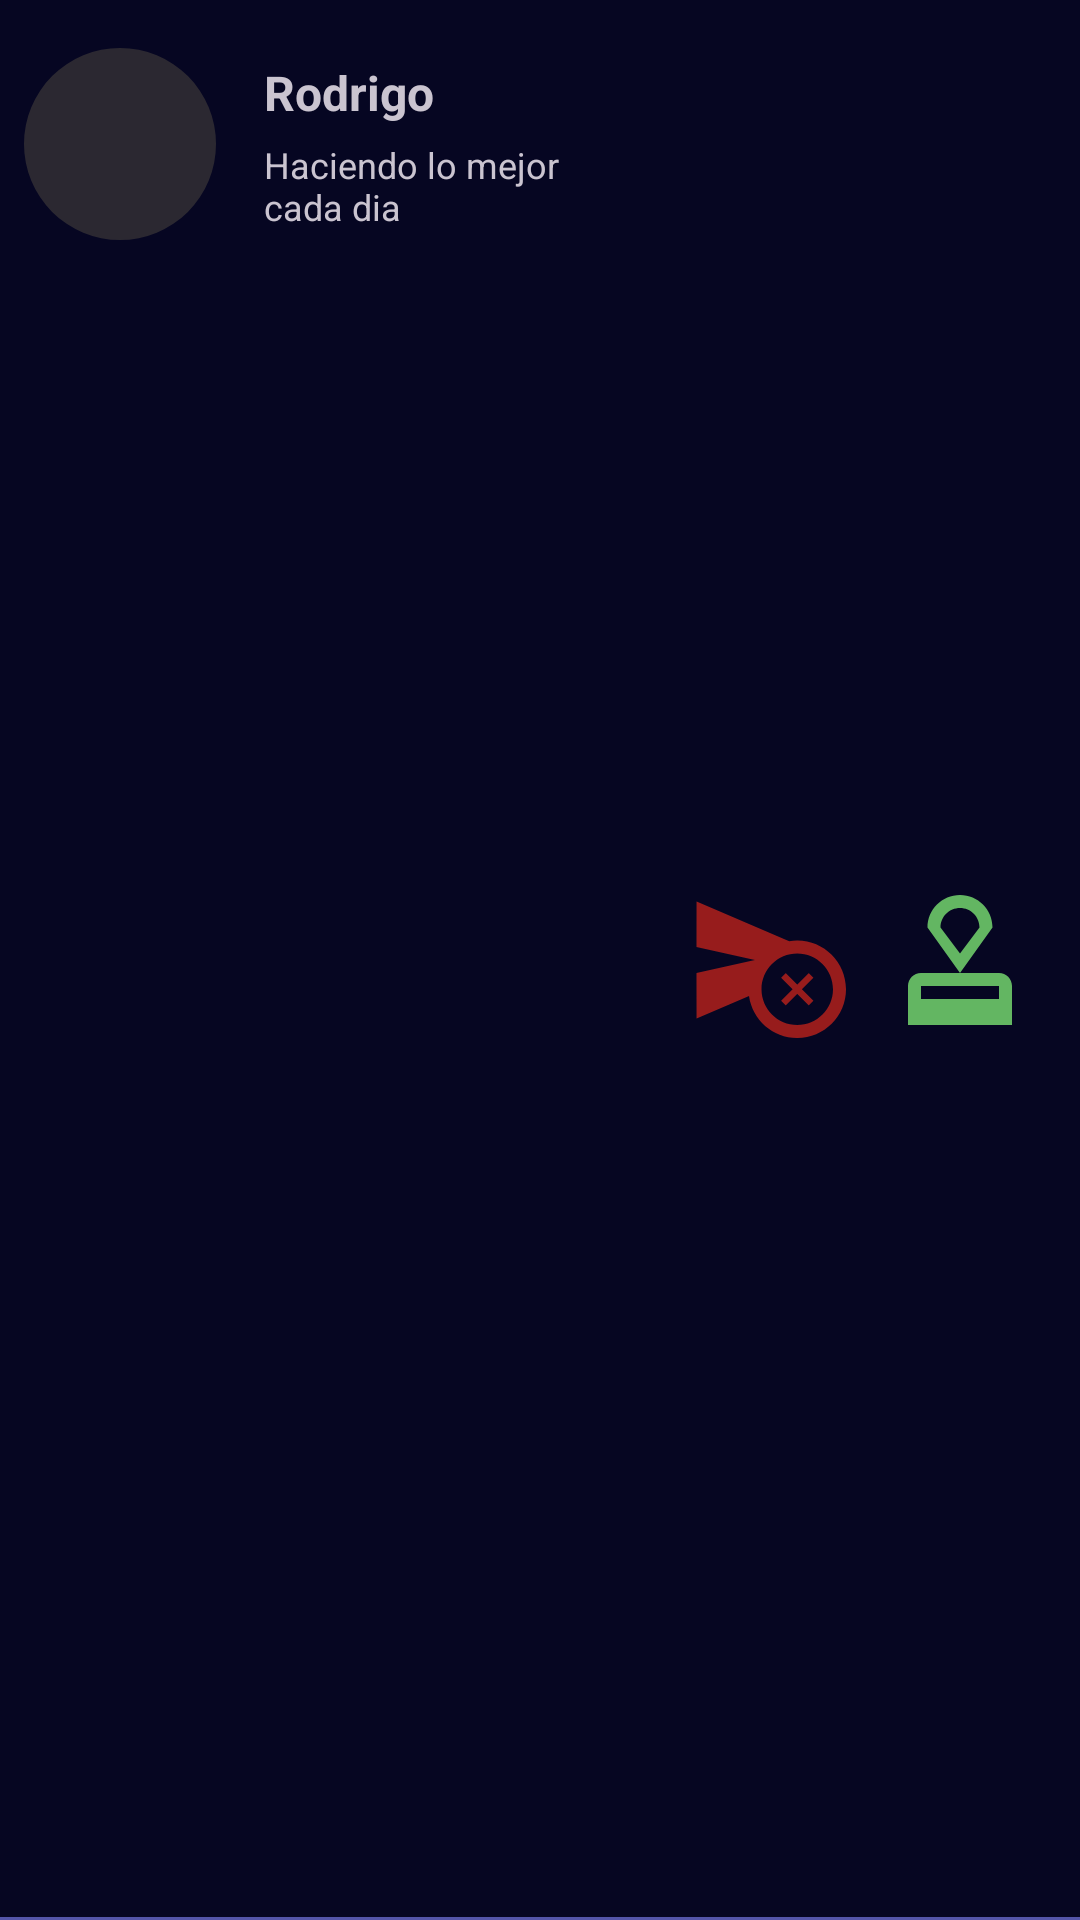

Screen size 1080x1920. Icon name, then its box in pixels as bbox=[x1, y1, x2, y2]:
approval: bbox=[908, 895, 1012, 1025]
